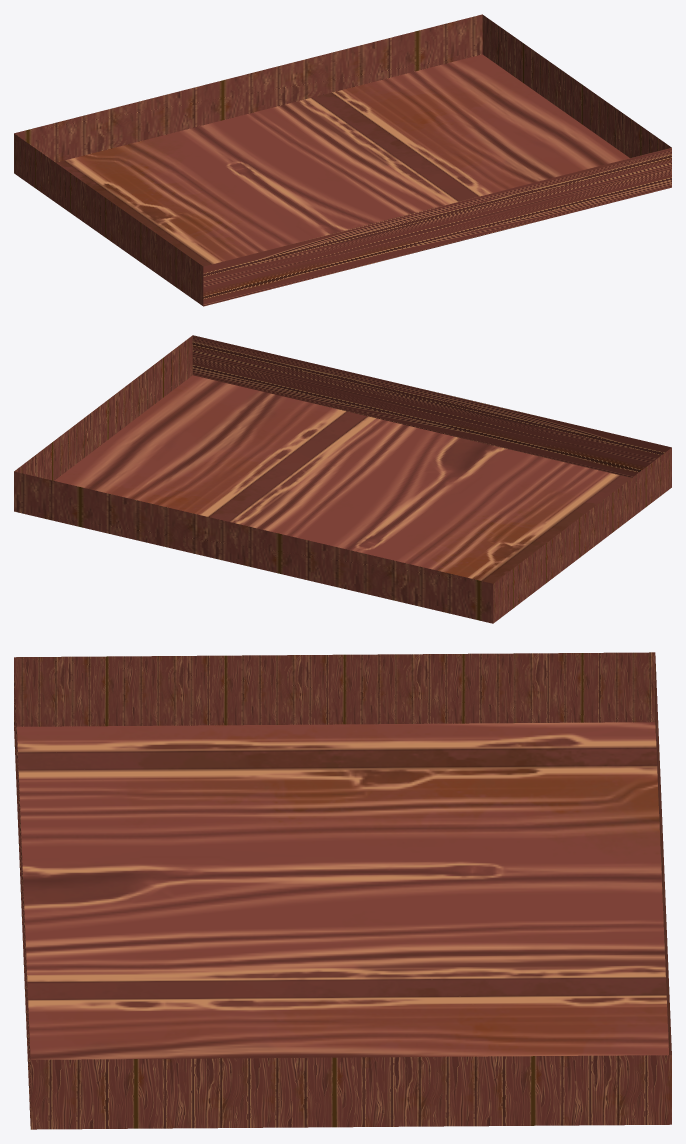
The picture shows the model from 3 angles, top to bottom: view 1: azimuth 30°, elevation 25°; view 2: azimuth 150°, elevation 25°; view 3: azimuth 270°, elevation 25°; orthographic projection. The views are drawn at different scales.
Parts seen in each view (by area): view 1: Cube.1466; view 2: Cube.1466; view 3: Cube.1466.
Boxes of the visible parts, x1,y1,x2,y2 form: Cube.1466: (14,14,671,306); Cube.1466: (14,335,671,623); Cube.1466: (14,652,671,1129).
Size of the model in its own units: 1900 by 151 by 1297.
Materials: 1 (1 with a texture image).
